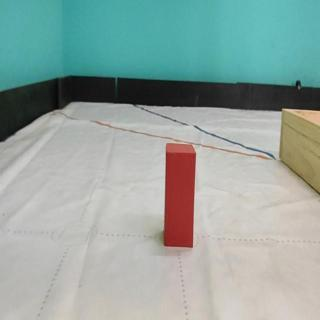redbox: (164, 144, 195, 247)
